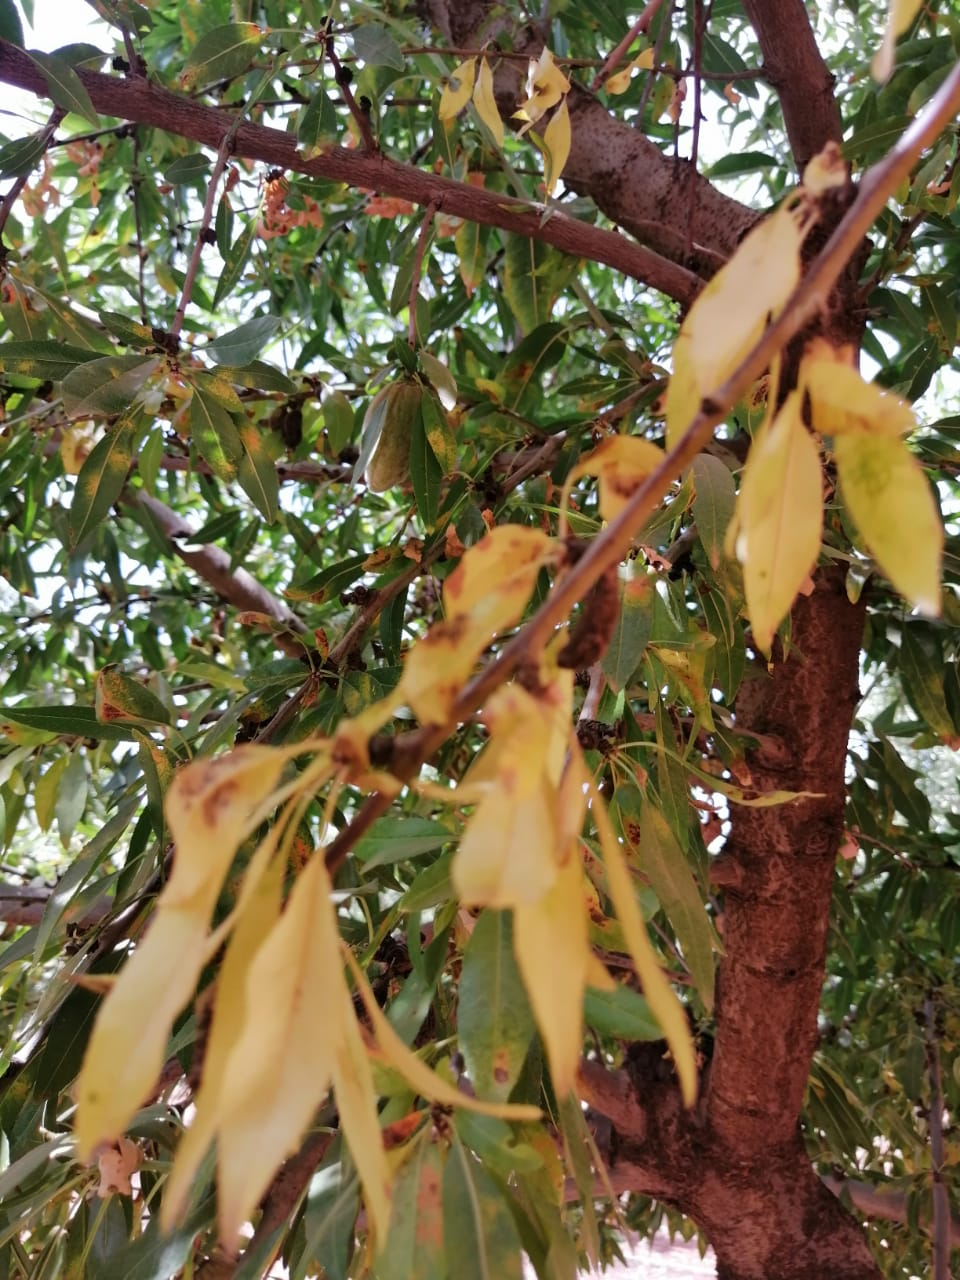chancre fusicocum: (69, 140, 933, 1248)
